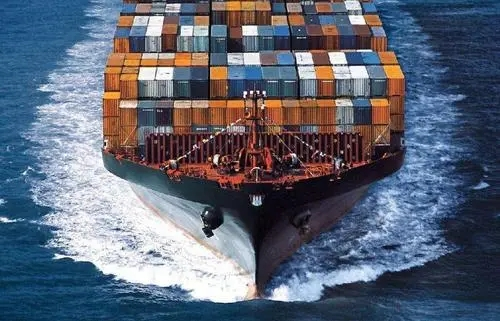Cargoship: (86, 1, 409, 300)
